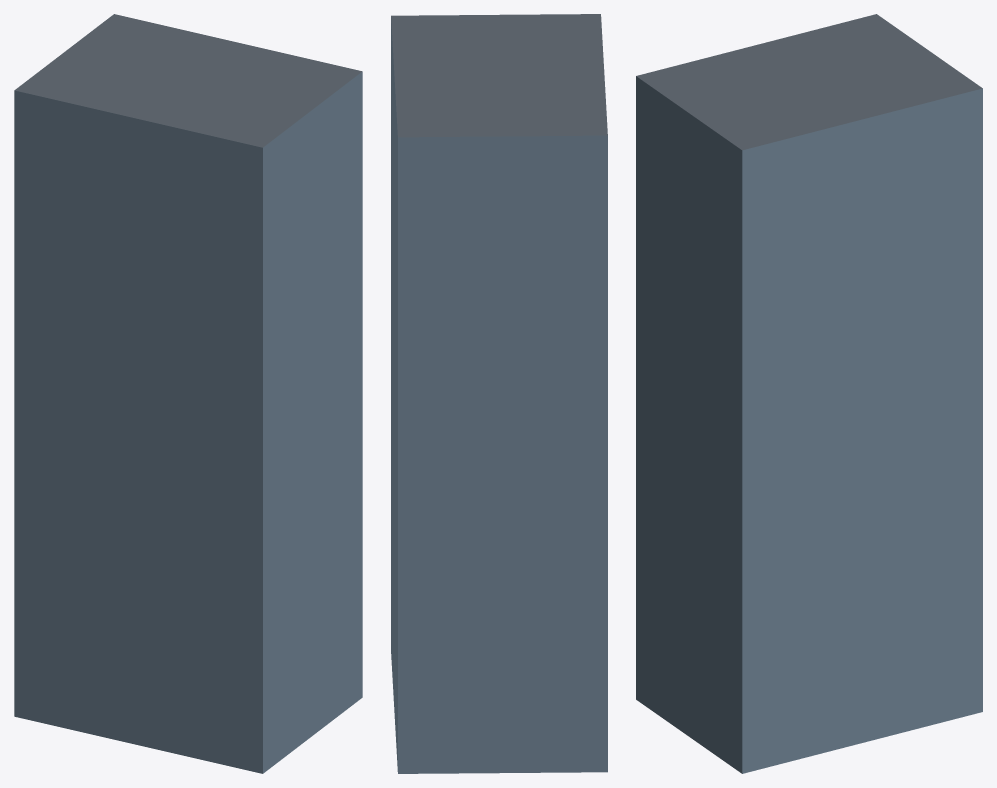
The picture shows the model from 3 angles, left to right: view 1: azimuth 30°, elevation 25°; view 2: azimuth 150°, elevation 25°; view 3: azimuth 270°, elevation 25°; orthographic projection. The views are drawn at different scales.
Visible parts, largest first — view 1: HP-w447024799; view 2: HP-w447024799; view 3: HP-w447024799.
Part boxes in pixels (x1,y1,x2,y2): HP-w447024799: [14, 14, 362, 773]; HP-w447024799: [391, 14, 607, 773]; HP-w447024799: [636, 14, 982, 773].
Size of the model in its own units: 62.41 by 133 by 67.08.
